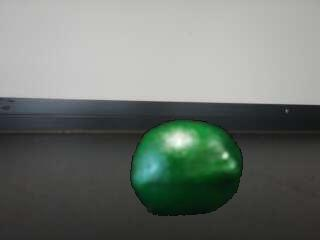Lime: (130, 119, 244, 217)
